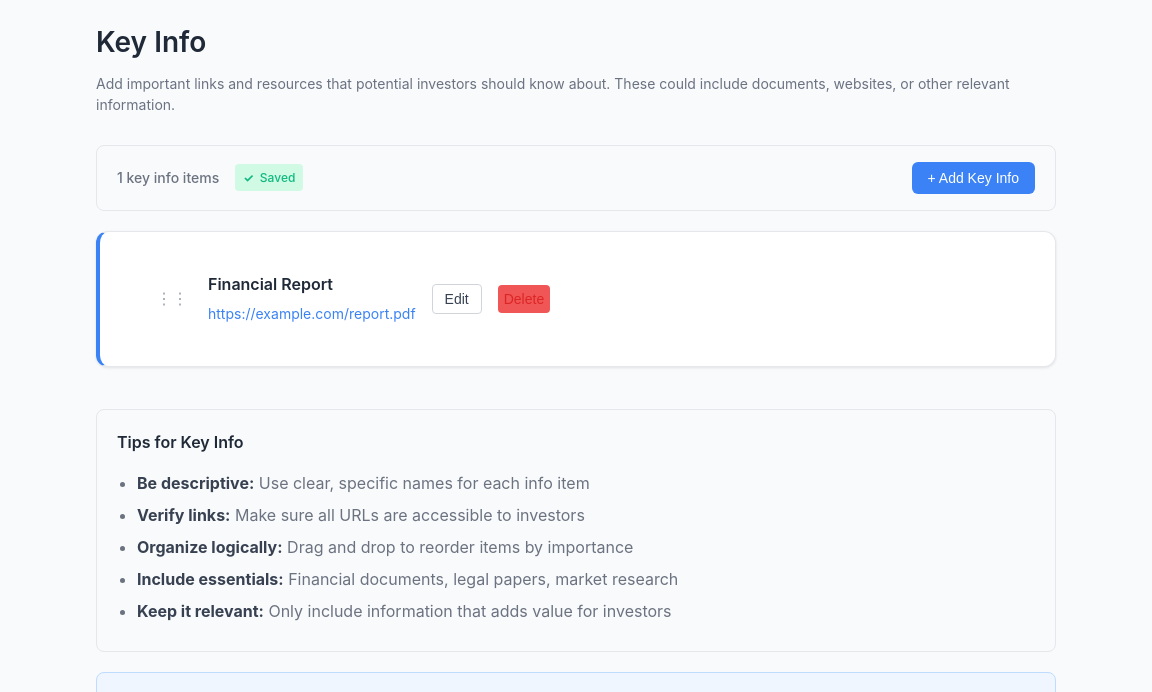
Test: Deal Room Components › KeyInfoManager › allows editing existing items
Click the button "Edit" at (457, 299), box [432, 284, 482, 314]
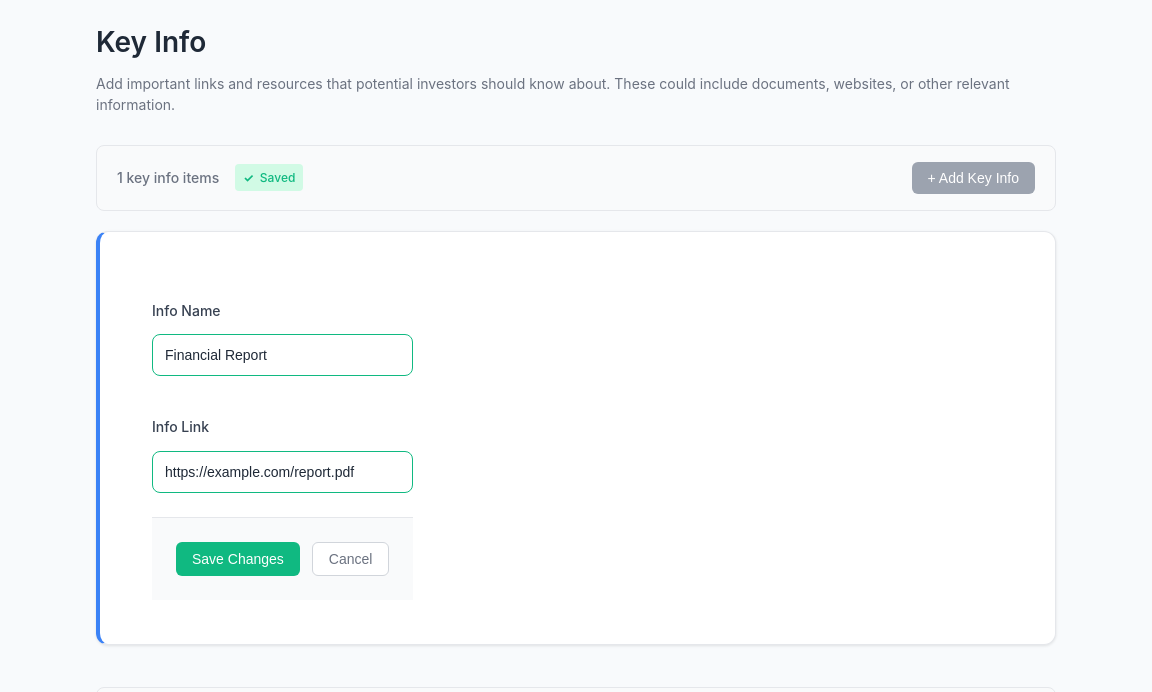
Check: the field showing "Financial Report" below "Info Name" is shown, box [152, 334, 413, 376]
Check: the field showing "https://example.com/report.pdf" below "Info Link" is shown, box [152, 451, 413, 493]
